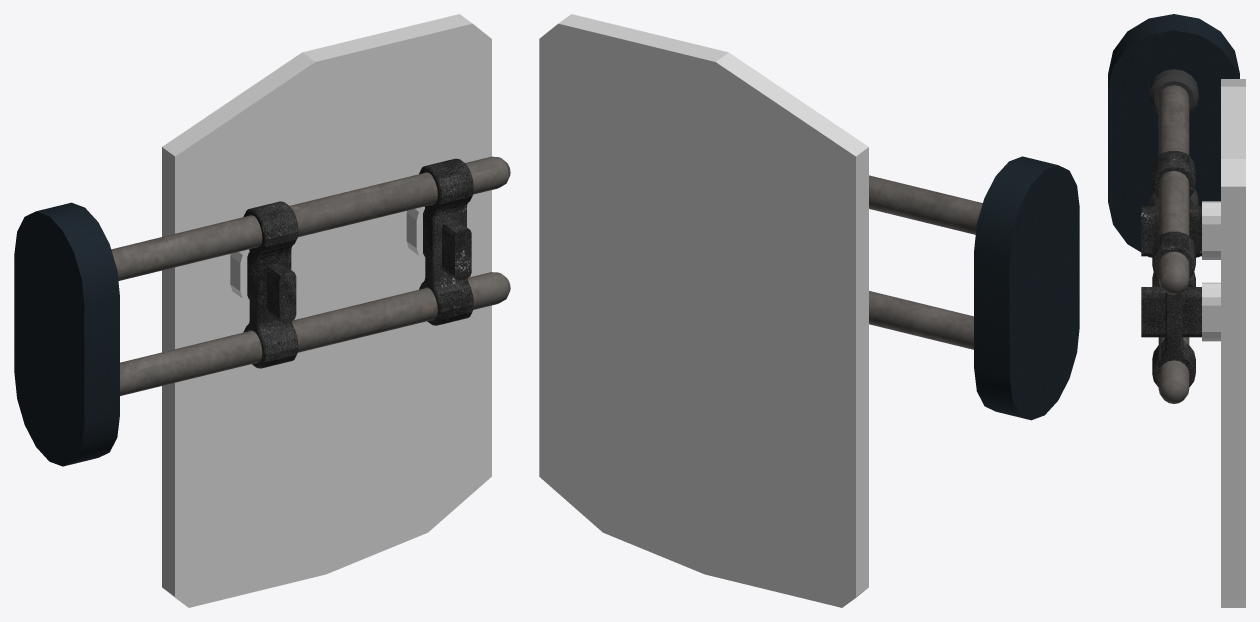
The model's file is floating_billboard_MESH.fbx.
3 renders of one model, left to right at view 1: azimuth 30°, elevation 25°; view 2: azimuth 150°, elevation 25°; view 3: azimuth 270°, elevation 25°, orthographic. The views are drawn at different scales.
Visible parts, largest first — view 1: floating billoard_board_MESH, floating billboard_base_MESH, floating billboard_slider_MESH; view 2: floating billoard_board_MESH, floating billboard_base_MESH; view 3: floating billboard_base_MESH, floating billoard_board_MESH, floating billboard_slider_MESH.
Part boxes in pixels (<box>): floating billoard_board_MESH: <box>162,14,491,607</box>; floating billboard_base_MESH: <box>14,156,510,466</box>; floating billboard_slider_MESH: <box>243,158,473,368</box>; floating billoard_board_MESH: <box>539,14,868,607</box>; floating billboard_base_MESH: <box>869,156,1079,420</box>; floating billboard_base_MESH: <box>1108,14,1239,403</box>; floating billoard_board_MESH: <box>1202,79,1245,607</box>; floating billboard_slider_MESH: <box>1141,151,1201,387</box>.
Bounding box in the file's own units: 820 × 222 × 863.
